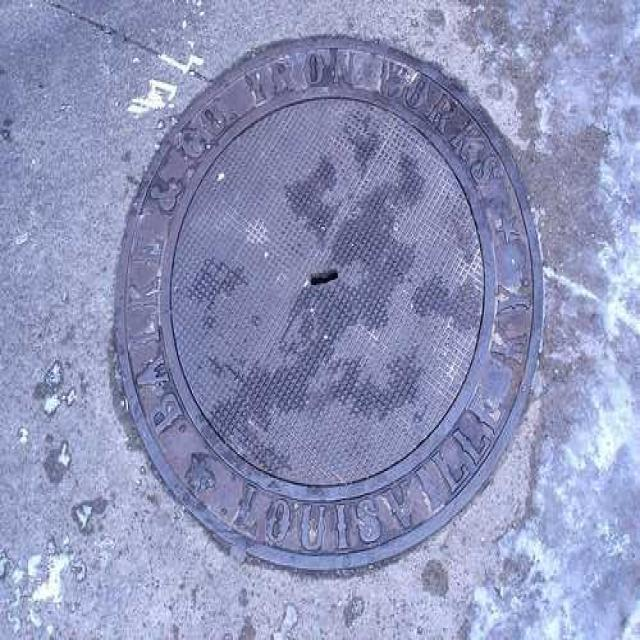manhole: (116, 37, 542, 571)
